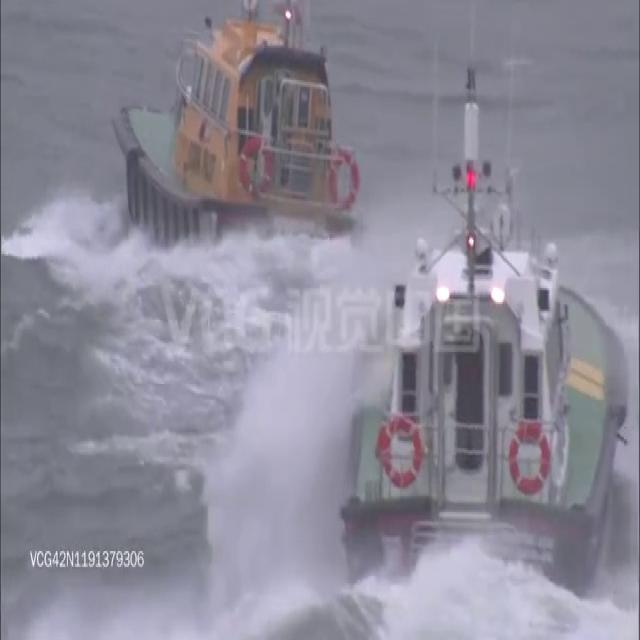houseboat: (346, 56, 625, 603), (111, 0, 362, 280)
